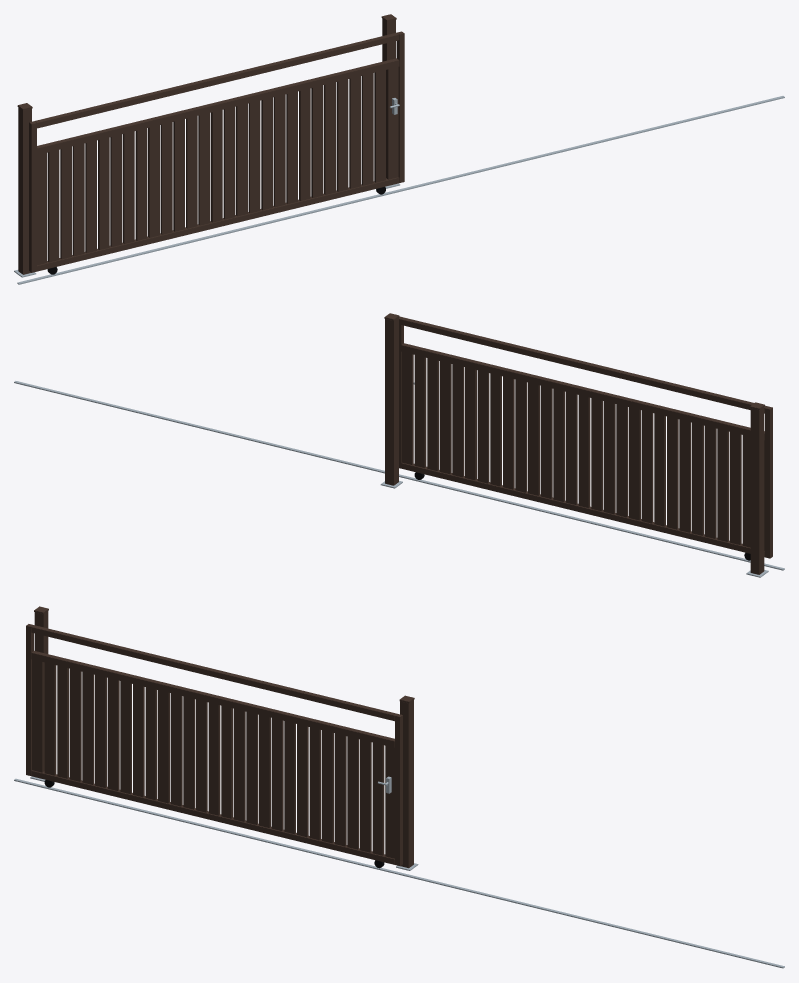
File: 12-klizna.glb
3 renders of one model, top to bottom at view 1: azimuth 30°, elevation 25°; view 2: azimuth 150°, elevation 25°; view 3: azimuth 330°, elevation 25°, orthographic.
Parts seen in each view (by area): view 1: Ram_poprecni_ispod_otvora.004, Ram_gornji.039, Okov_vodilica_demo.011, Ram_donji.039, Stub_levi.047, Ispuna_vertikalna_prava.053, Ispuna_vertikalna_prava.076, Ispuna_vertikalna_prava.060, Ispuna_vertikalna_prava.062, Ispuna_vertikalna_prava.065, Ispuna_vertikalna_prava.067, Ispuna_vertikalna_prava.078 (+25 smaller); view 2: Ram_poprecni_ispod_otvora.004, Ram_gornji.039, Okov_vodilica_demo.011, Ram_donji.039, Stub_levi.047, Stub_desni.047, Ispuna_vertikalna_prava.058, Ispuna_vertikalna_prava.061, Ispuna_vertikalna_prava.063, Ispuna_vertikalna_prava.071, Ispuna_vertikalna_prava.074, Ispuna_vertikalna_prava.064 (+24 smaller); view 3: Ram_poprecni_ispod_otvora.004, Ram_gornji.039, Okov_vodilica_demo.011, Ram_donji.039, Stub_desni.047, Ispuna_vertikalna_prava.063, Ispuna_vertikalna_prava.076, Ispuna_vertikalna_prava.077, Ispuna_vertikalna_prava.053, Ispuna_vertikalna_prava.064, Ispuna_vertikalna_prava.074, Ispuna_vertikalna_prava.055 (+25 smaller).
Part boxes in pixels (x1,y1,x2,y2): Ram_poprecni_ispod_otvora.004: (37,58,399,154); Ram_gornji.039: (34,32,399,128); Okov_vodilica_demo.011: (17,96,784,284); Ram_donji.039: (37,177,399,271); Stub_levi.047: (18,107,31,274); Ispuna_vertikalna_prava.053: (47,149,59,262); Ispuna_vertikalna_prava.076: (336,79,348,191); Ispuna_vertikalna_prava.060: (135,128,147,240); Ispuna_vertikalna_prava.062: (160,122,172,234); Ispuna_vertikalna_prava.065: (198,113,210,225); Ispuna_vertikalna_prava.067: (223,107,235,219); Ispuna_vertikalna_prava.078: (361,73,373,185); Ram_poprecni_ispod_otvora.004: (401,343,764,440); Ram_gornji.039: (401,317,767,413); Okov_vodilica_demo.011: (14,381,784,570); Ram_donji.039: (401,462,764,557); Stub_levi.047: (750,407,764,574); Stub_desni.047: (385,317,398,485); Ispuna_vertikalna_prava.058: (679,419,691,532); Ispuna_vertikalna_prava.061: (641,410,653,523); Ispuna_vertikalna_prava.063: (616,404,628,517); Ispuna_vertikalna_prava.071: (515,379,527,492); Ispuna_vertikalna_prava.074: (477,370,489,483); Ispuna_vertikalna_prava.064: (603,401,615,514); Ram_poprecni_ispod_otvora.004: (31,651,394,747); Ram_gornji.039: (31,625,397,721); Okov_vodilica_demo.011: (14,778,784,968); Ram_donji.039: (31,770,394,864); Stub_desni.047: (400,700,413,868); Ispuna_vertikalna_prava.063: (170,693,182,806); Ispuna_vertikalna_prava.076: (334,733,346,846); Ispuna_vertikalna_prava.077: (347,736,359,849); Ispuna_vertikalna_prava.053: (44,662,56,775); Ispuna_vertikalna_prava.064: (183,696,195,809); Ispuna_vertikalna_prava.074: (309,727,321,840); Ispuna_vertikalna_prava.055: (69,668,81,781).
Size of the model in its own units: 8.63 by 1.8 by 0.38.
